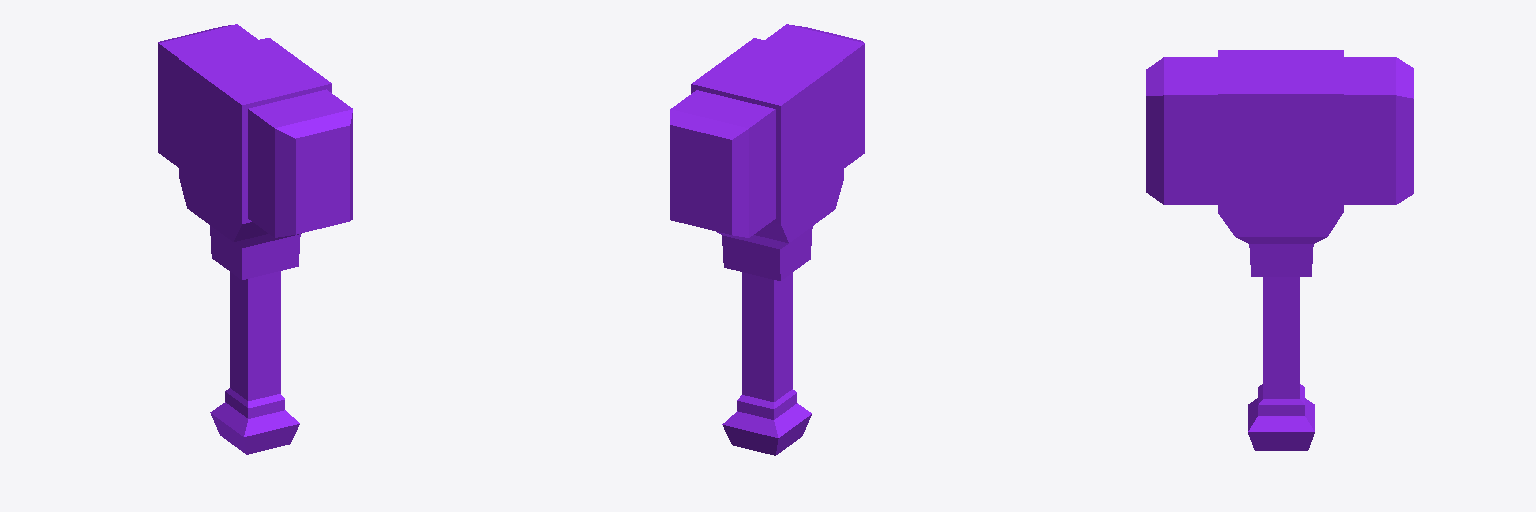
3 views of the same model, side by side, from view 1: azimuth 30°, elevation 25°; view 2: azimuth 150°, elevation 25°; view 3: azimuth 270°, elevation 25° (orthographic).
Visible parts, largest first — view 1: Cube; view 2: Cube; view 3: Cube.
Part boxes in pixels (x1,y1,x2,y2): Cube: (158, 24, 352, 454); Cube: (670, 24, 864, 455); Cube: (1146, 50, 1413, 450).
Size of the model in its own units: 4.16 by 16.28 by 10.71.
1 materials, 1 textured.